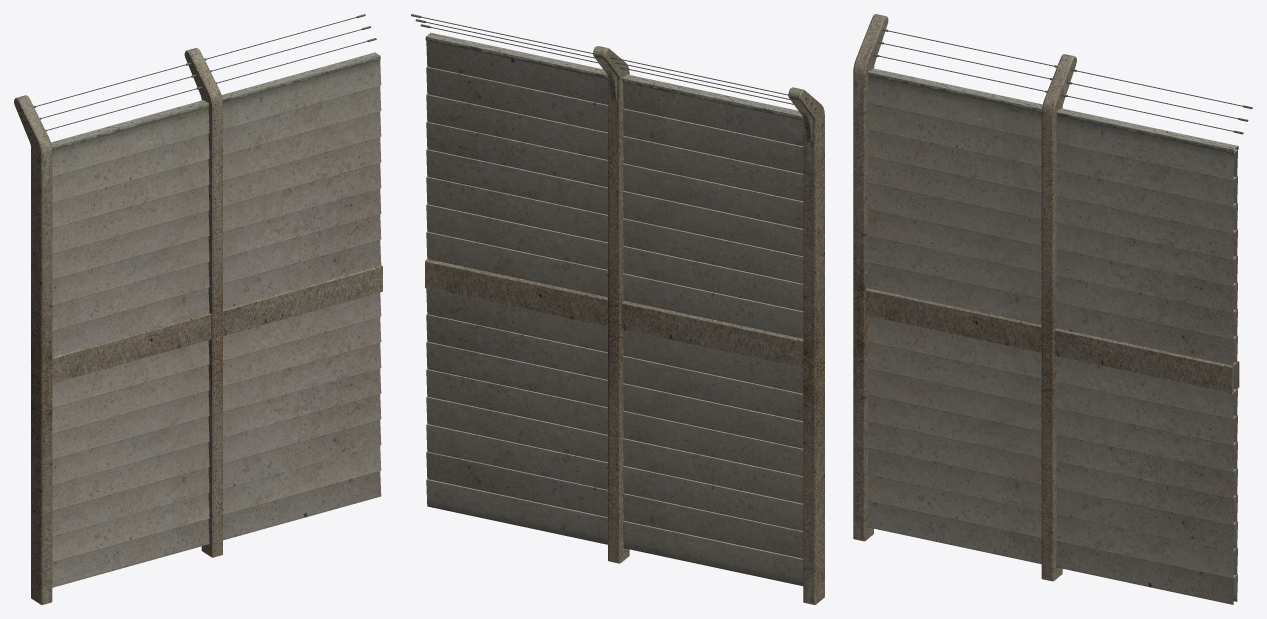
The model's file is object_29.018_lev2.018_lev3.glb.
3 renders of one model, left to right at view 1: azimuth 30°, elevation 25°; view 2: azimuth 150°, elevation 25°; view 3: azimuth 330°, elevation 25°, orthographic. The views are drawn at different scales.
Visible parts, largest first — view 1: object_29.018_lev2.018_lev3; view 2: object_29.018_lev2.018_lev3; view 3: object_29.018_lev2.018_lev3.
Boxes of the visible parts, box(x1,y1,x2,y2) form: object_29.018_lev2.018_lev3: box(14, 14, 382, 604); object_29.018_lev2.018_lev3: box(411, 14, 824, 604); object_29.018_lev2.018_lev3: box(853, 14, 1252, 604).
Size of the model in its own units: 11.82 by 15.45 by 1.84.
1 material, 1 textured.
